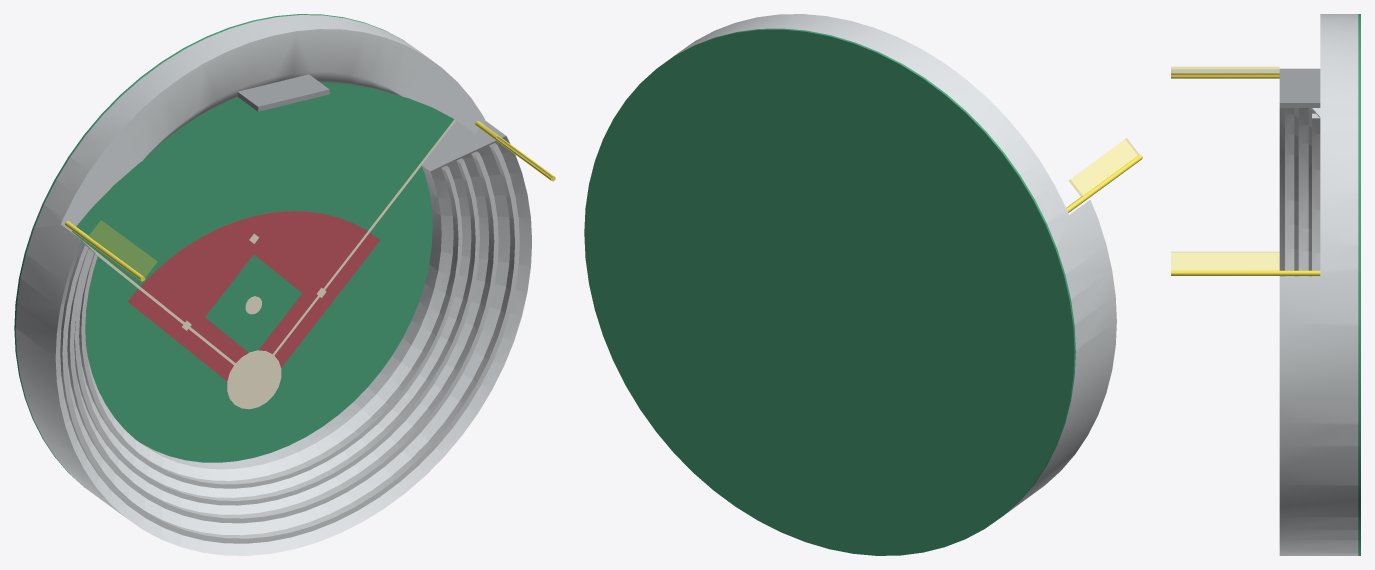
File: baseball_field.glb
3 renders of one model, left to right at view 1: azimuth 30°, elevation 25°; view 2: azimuth 150°, elevation 25°; view 3: azimuth 270°, elevation 25°, orthographic. The views are drawn at different scales.
Visible parts, largest first — view 1: Object_4, Object_5, Object_3, Object_9, Object_6, Object_8, Object_2, Object_7; view 2: Object_4, Object_5, Object_2; view 3: Object_5, Object_3, Object_2, Object_8, Object_4, Object_7.
Part boxes in pixels (x1,y1,x2,y2): Object_4: (14, 14, 454, 487); Object_5: (15, 15, 531, 555); Object_3: (60, 143, 519, 543); Object_9: (128, 211, 380, 381); Object_6: (71, 119, 455, 409); Object_8: (237, 74, 329, 111); Object_2: (89, 126, 551, 277); Object_7: (65, 121, 555, 281); Object_4: (584, 28, 1075, 555); Object_5: (661, 14, 1116, 514); Object_2: (1069, 138, 1139, 196); Object_5: (1279, 14, 1358, 555); Object_3: (1285, 108, 1320, 276); Object_2: (1171, 67, 1279, 270); Object_8: (1279, 68, 1320, 107); Object_4: (1358, 14, 1360, 555); Object_7: (1171, 73, 1320, 275).
Size of the model in its own units: 200 by 200 by 70.
